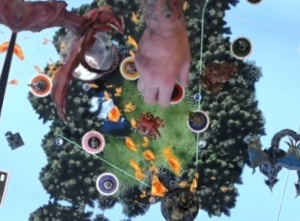blue: (182, 105, 213, 135)
green: (228, 34, 256, 61)
orange: (24, 69, 54, 100)
pink: (77, 126, 109, 156)
red: (160, 76, 187, 105)
violet: (92, 166, 122, 196)
yellow: (115, 49, 145, 81)
